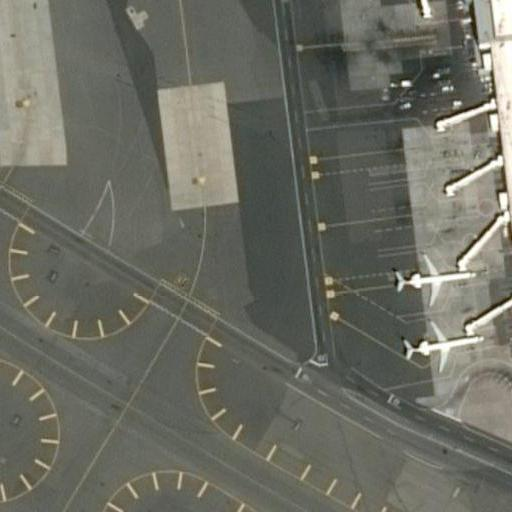Aircraft: (378, 242, 478, 308), (389, 308, 487, 375)
